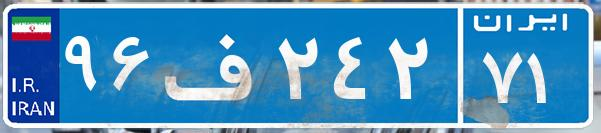1: (525, 38, 570, 115)
2: (385, 28, 445, 110), (273, 28, 330, 110)
4: (330, 28, 385, 110)
6: (110, 28, 158, 105)
7: (475, 38, 525, 113)
9: (57, 26, 110, 107)
ف: (158, 15, 273, 115)
